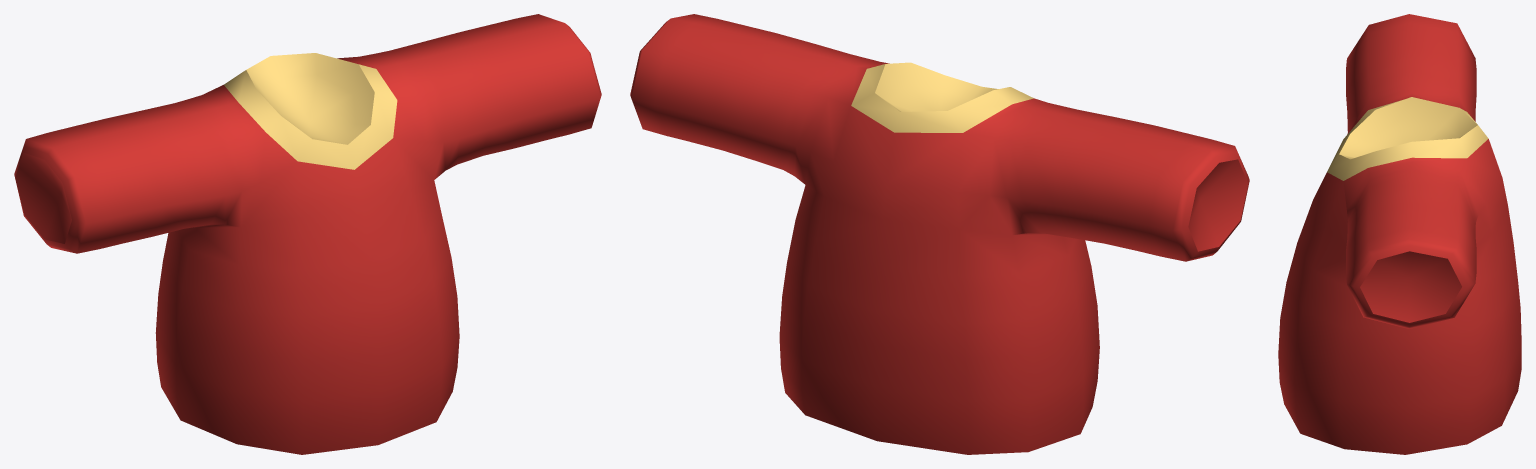
File: Top_12.fbx
The picture shows the model from 3 angles, left to right: view 1: azimuth 30°, elevation 25°; view 2: azimuth 150°, elevation 25°; view 3: azimuth 270°, elevation 25°; orthographic projection. The views are drawn at different scales.
Visible parts, largest first — view 1: Top_12; view 2: Top_12; view 3: Top_12.
Boxes of the visible parts, x1,y1,x2,y2 form: Top_12: (14, 14, 601, 454); Top_12: (630, 14, 1249, 454); Top_12: (1278, 14, 1521, 454).
Bounding box in the file's own units: 80.71 × 46.22 × 35.79.
